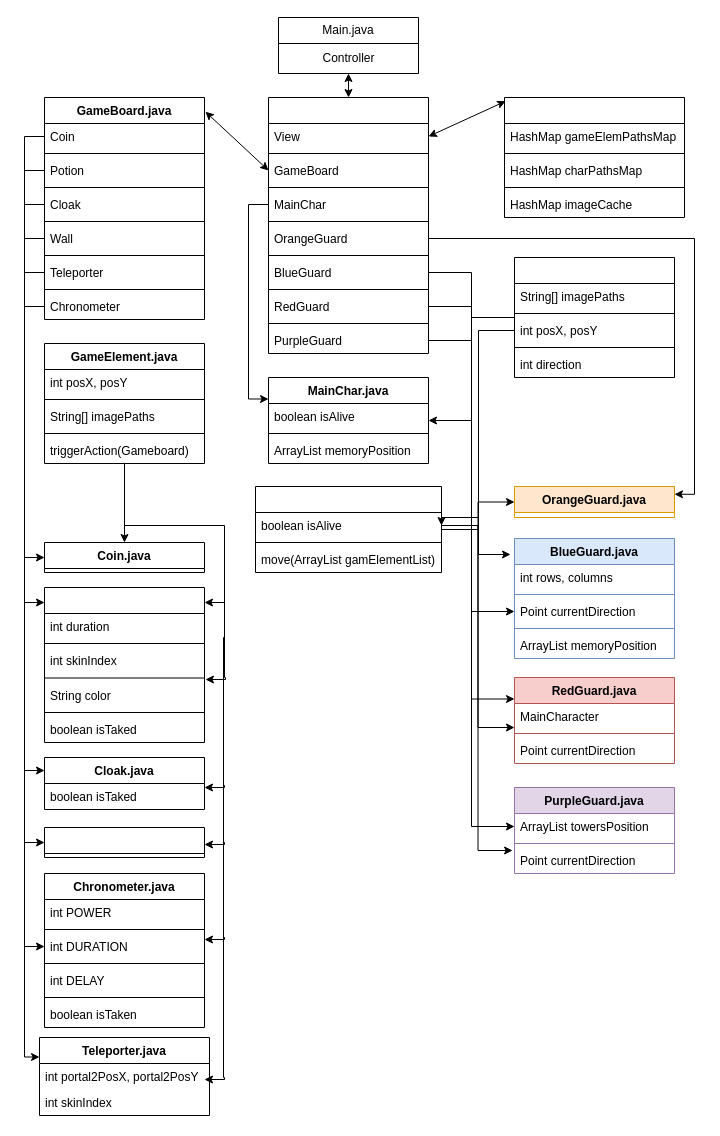
The diagram is 720 pixels wide and 1136 high, and some of its shapes have lost their labels. The box of each missing label's shape, as (x1, y1, x2, y2) in pixels:
Character.java: (514, 256, 674, 378)
Controller.java: (268, 96, 428, 354)
Guard.java: (254, 486, 442, 572)
Potion.java: (44, 586, 204, 742)
View.java: (504, 96, 684, 218)
Wall.java: (44, 826, 204, 858)
